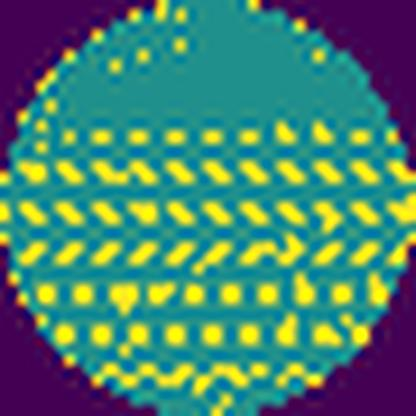Loc: (0, 126, 416, 386)
